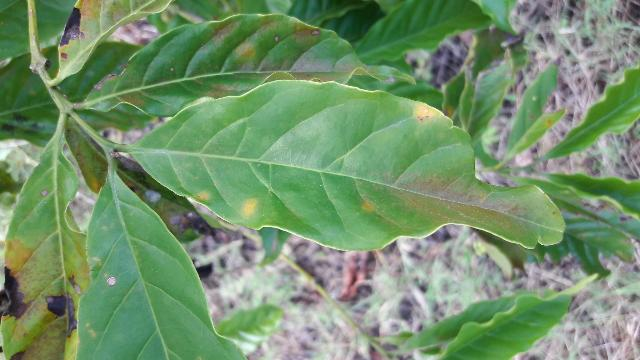rust_level_1: (132, 83, 563, 252)
